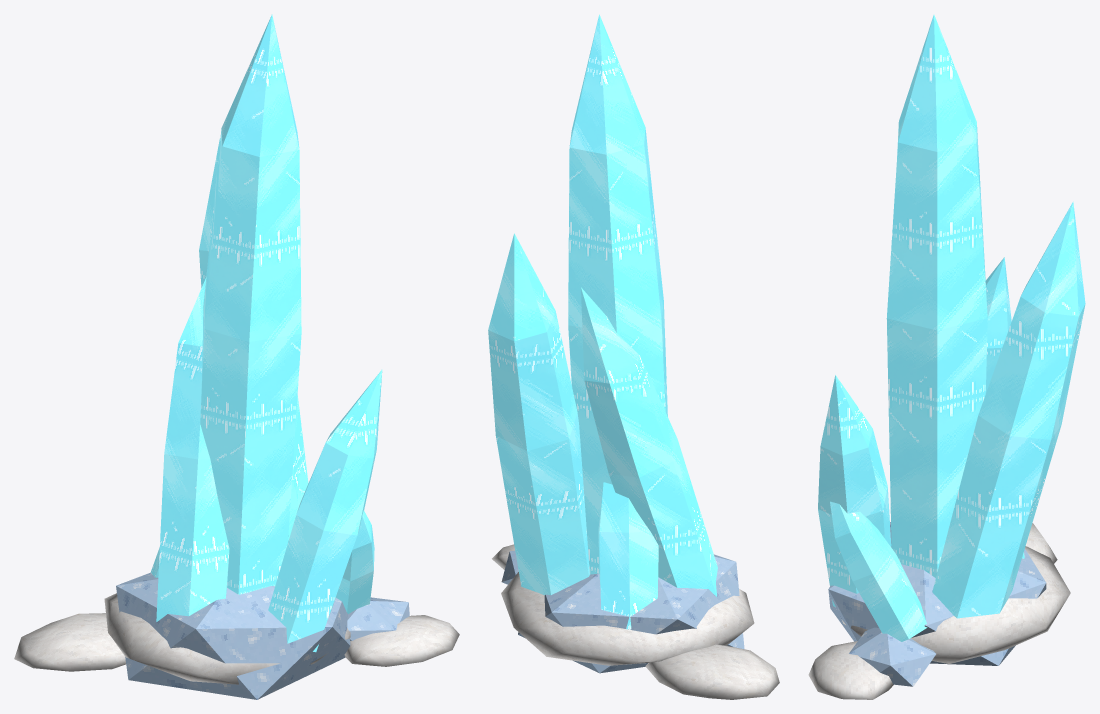
Rendered from glacier_spire.glb.
The picture shows the model from 3 angles, left to right: view 1: azimuth 30°, elevation 25°; view 2: azimuth 150°, elevation 25°; view 3: azimuth 270°, elevation 25°; orthographic projection. The views are drawn at different scales.
Visible parts, largest first — view 1: Spire, Foot, Snow; view 2: Spire, Snow, Foot; view 3: Spire, Snow, Foot.
Part boxes in pixels (bbox=[...]): Spire: bbox=[150, 14, 382, 652]; Foot: bbox=[116, 572, 409, 699]; Snow: bbox=[14, 593, 459, 684]; Spire: bbox=[488, 14, 717, 629]; Snow: bbox=[492, 544, 779, 699]; Foot: bbox=[501, 550, 744, 673]; Spire: bbox=[818, 14, 1085, 641]; Snow: bbox=[808, 523, 1070, 699]; Foot: bbox=[828, 522, 1046, 686].
Size of the model in its own units: 4.49 by 7.56 by 3.03.
Materials: 3 (3 with a texture image).
